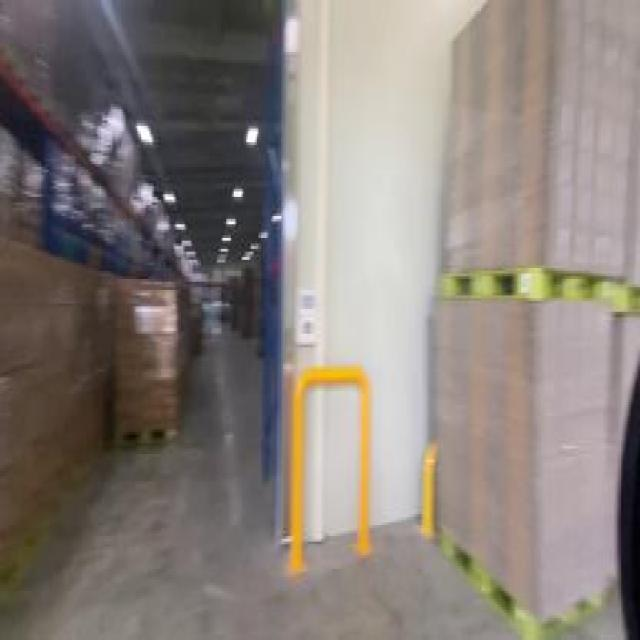box: (423, 2, 639, 634), (0, 232, 114, 634), (117, 266, 186, 452)
